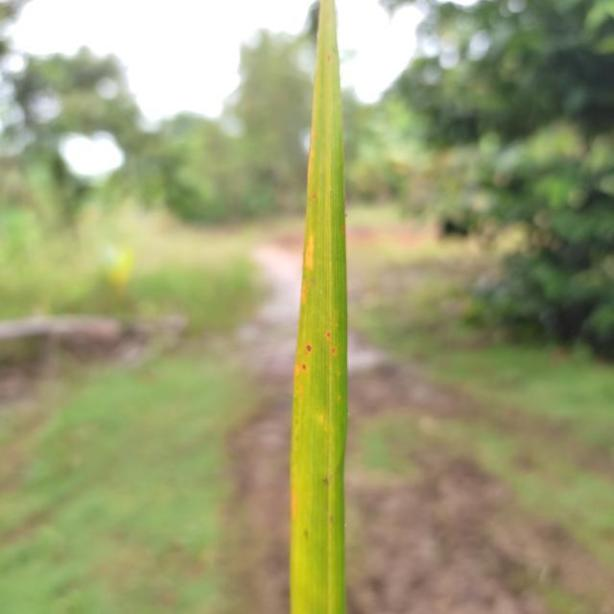nitrogen: (283, 0, 358, 614)
